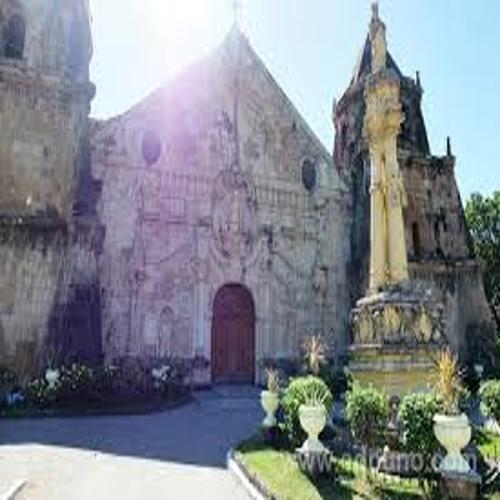Miagao Church: (1, 1, 492, 394)
